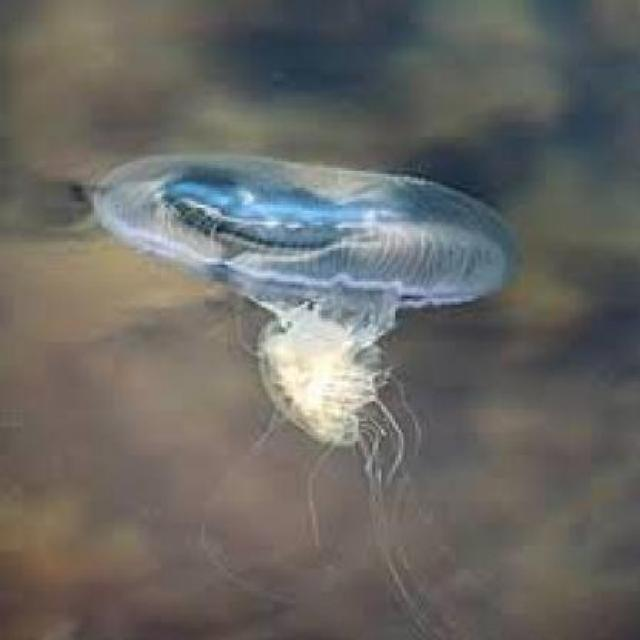Jellyfish: (79, 148, 524, 462)
